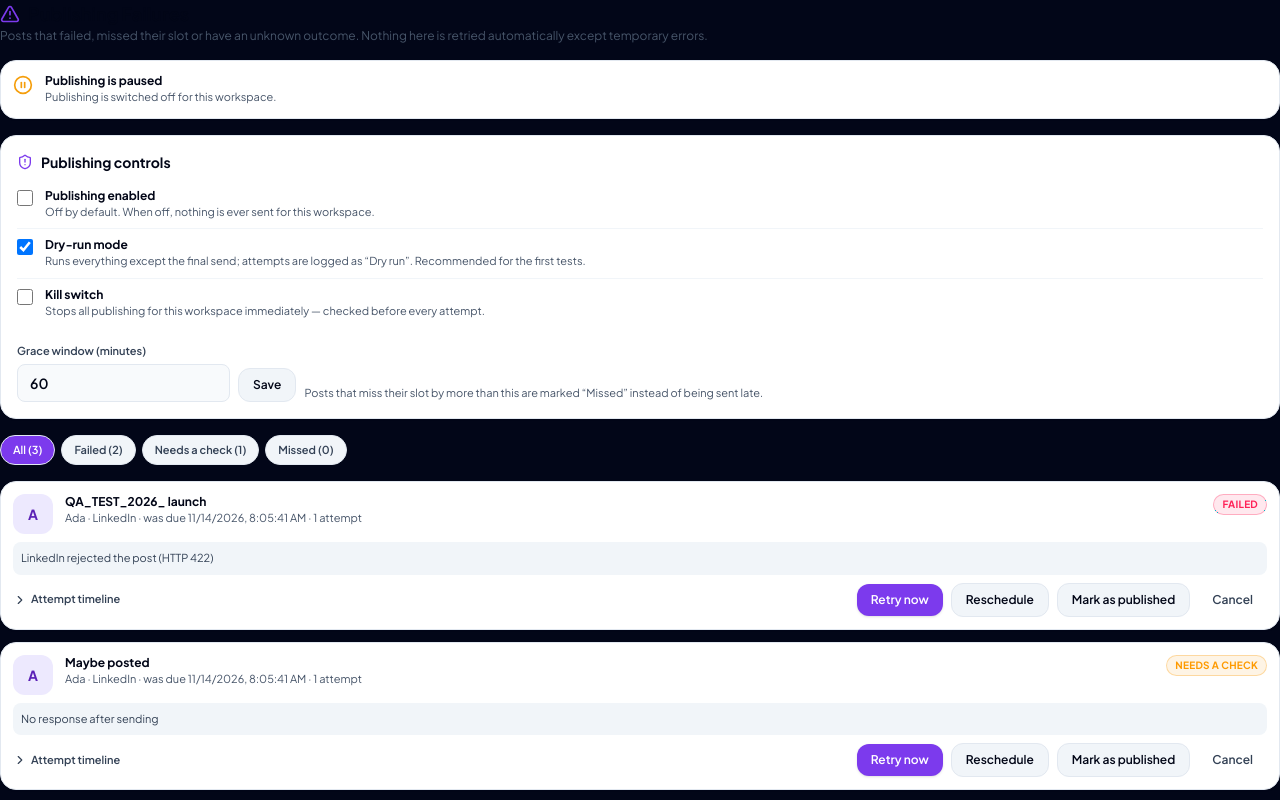
Scenario: SocialFailuresPage › shows failures with redacted errors, filters, dry-run label and the attempt timeline
This screenshot has width=1280, height=800.
Expected: the text "LinkedIn rejected the post (HTTP 422)" is shown, x1=13 y1=542 x2=1267 y2=574
Expected: the tab "All (3)" is shown, x1=0 y1=434 x2=55 y2=465
Click the tab "Needs a check (1)" at (200, 450), box x1=142 y1=434 x2=259 y2=465
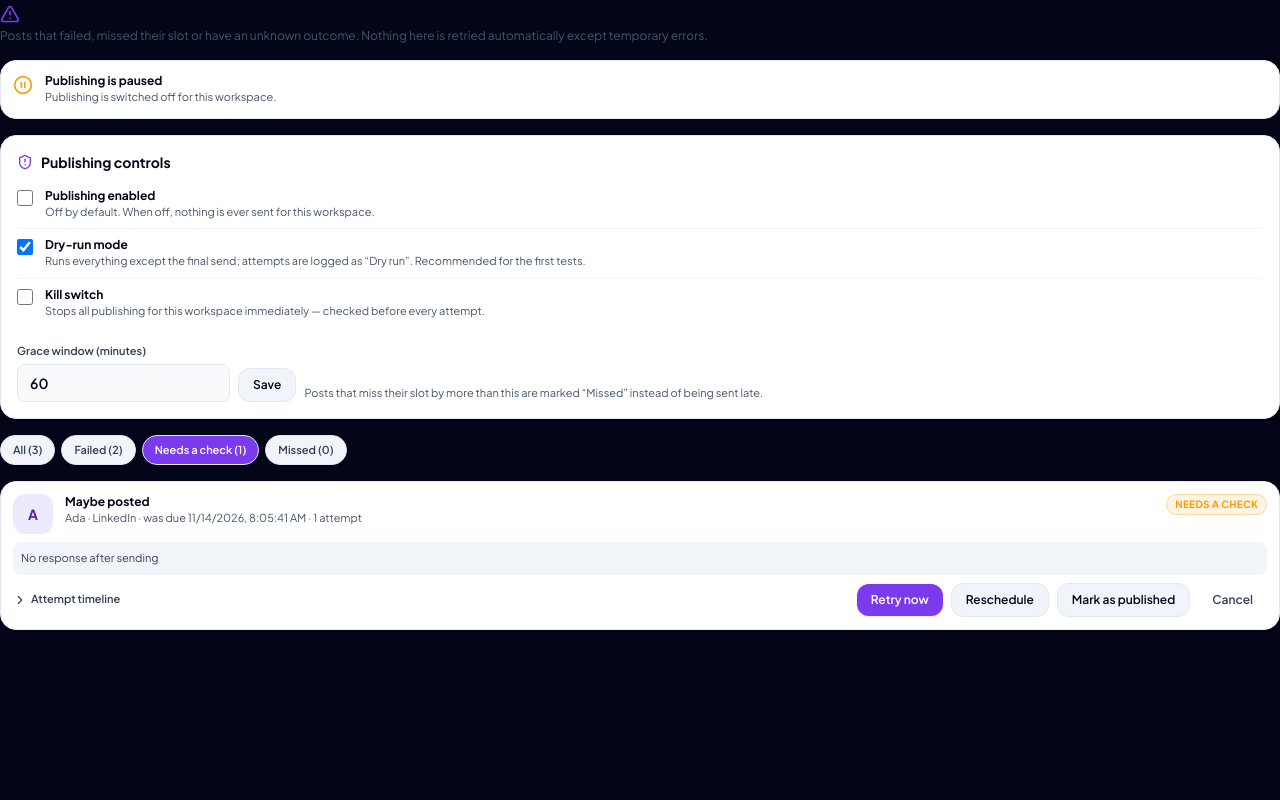
Expected: the text "Maybe posted" is shown, x1=65 y1=494 x2=150 y2=509
Click the tab "All (3)" at (28, 450), box x1=0 y1=434 x2=55 y2=465
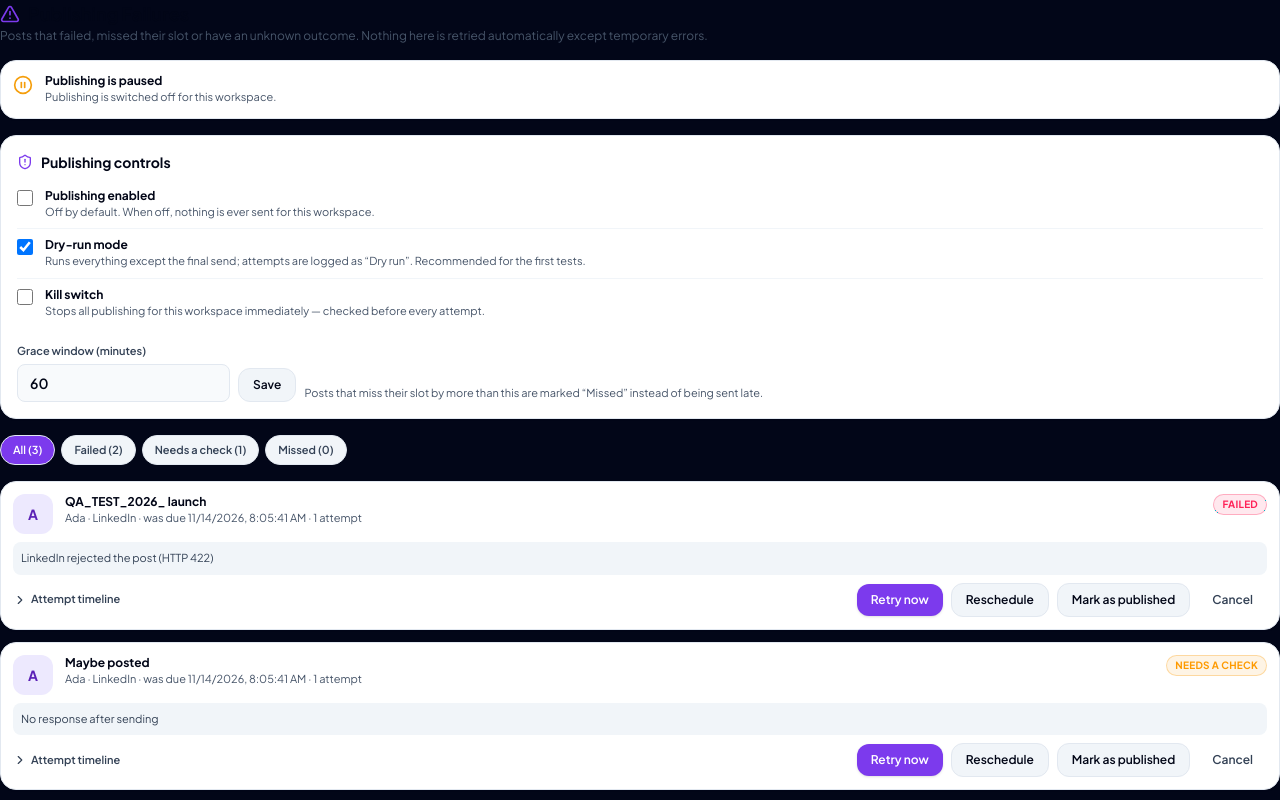
Click the button "Attempt timeline" below "LinkedIn rejected the post (HTTP 422)" at (67, 600), box x1=13 y1=591 x2=120 y2=608
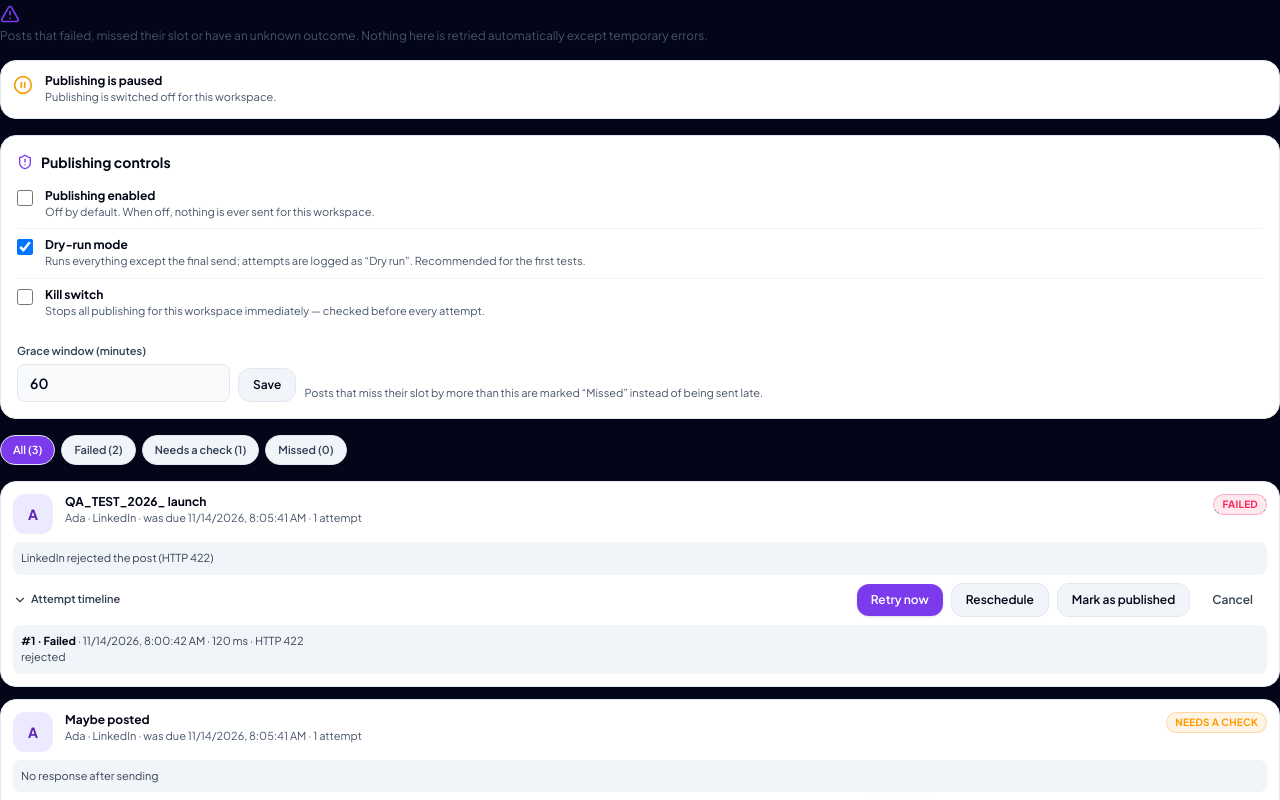
Result: the text "#1 · Failed" is shown at x1=21 y1=634 x2=76 y2=646
Result: the text "· 11/14/2026, 8:00:42 AM · 120 ms · HTTP 422" is shown at x1=76 y1=634 x2=304 y2=646
